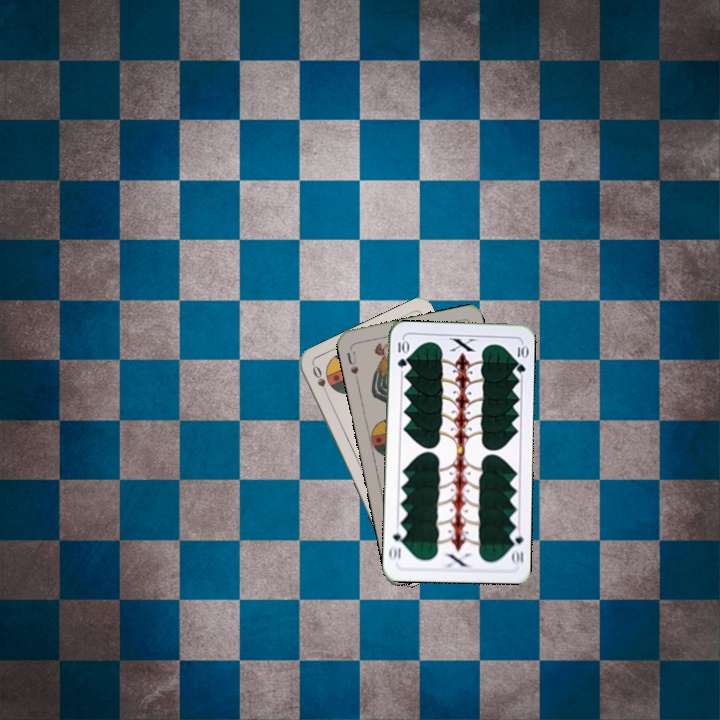G10: (506, 527, 526, 567), (394, 336, 409, 370)
SO: (308, 361, 331, 400)
SU: (343, 344, 361, 385)
